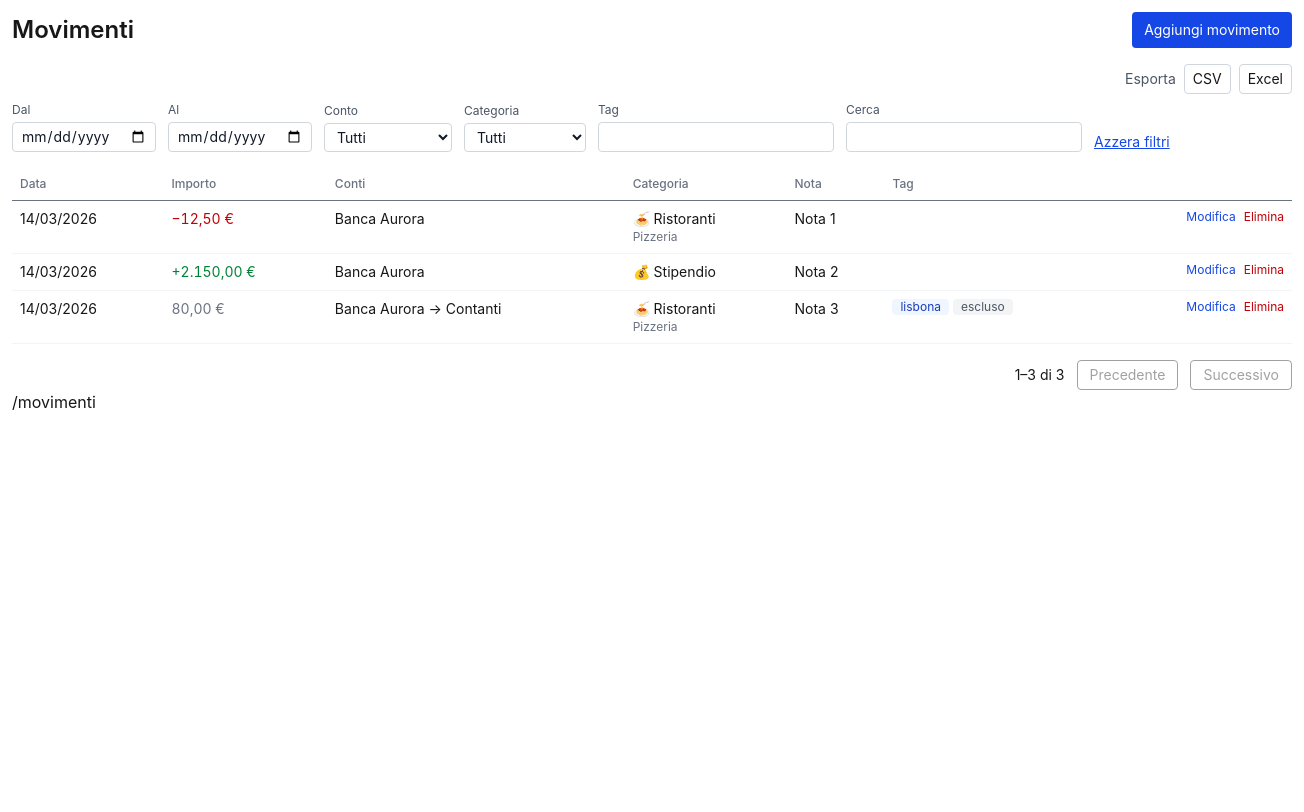
Test case: changing the ledger › edits a row inline with a PATCH
Click the button "Modifica" in the row of "−12,50 €" at coordinates (1211, 217), box [1186,209,1236,225]
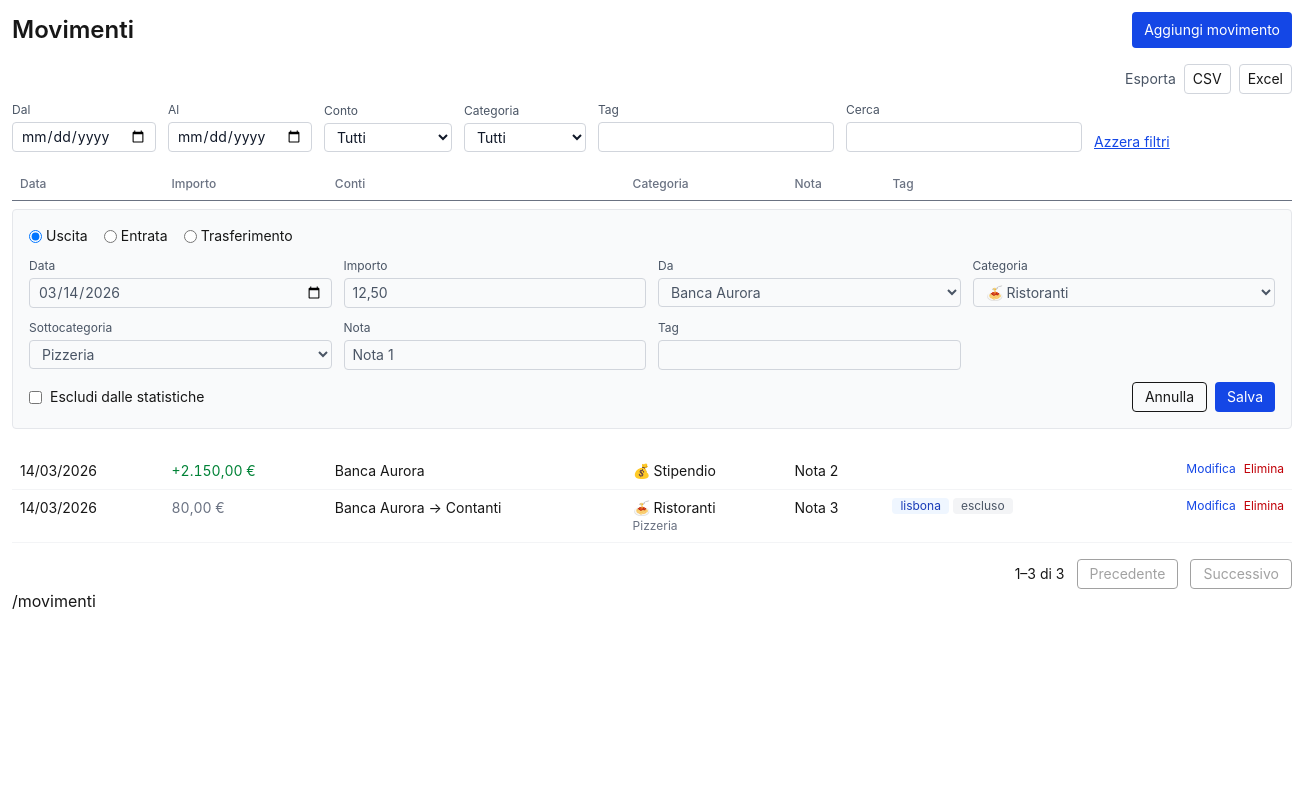
Result: the field labelled "Importo" holds "12,50"
Replace the text in the field labelled "Importo" with "20" at coordinates (495, 293), box [344,278,646,308]
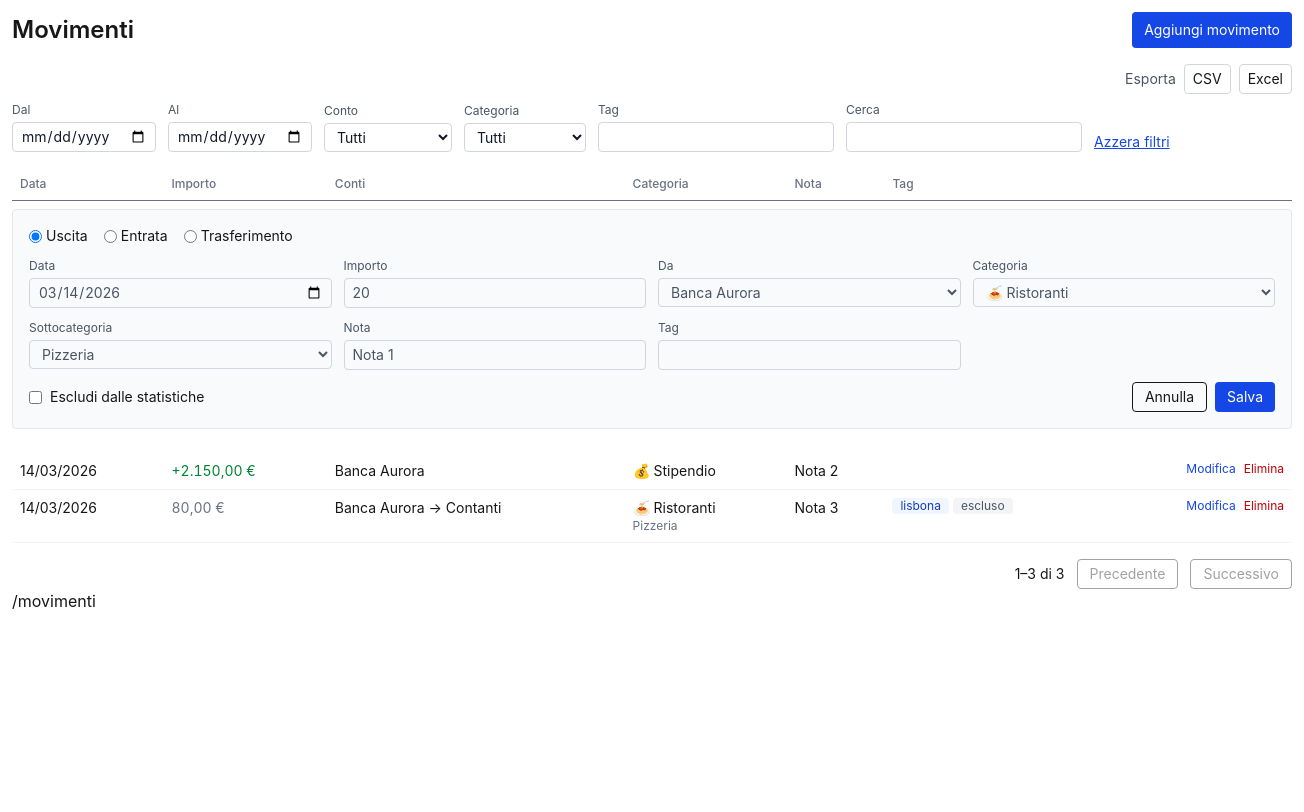
Click the button "Salva" at coordinates (1245, 397), box [1215,382,1275,412]
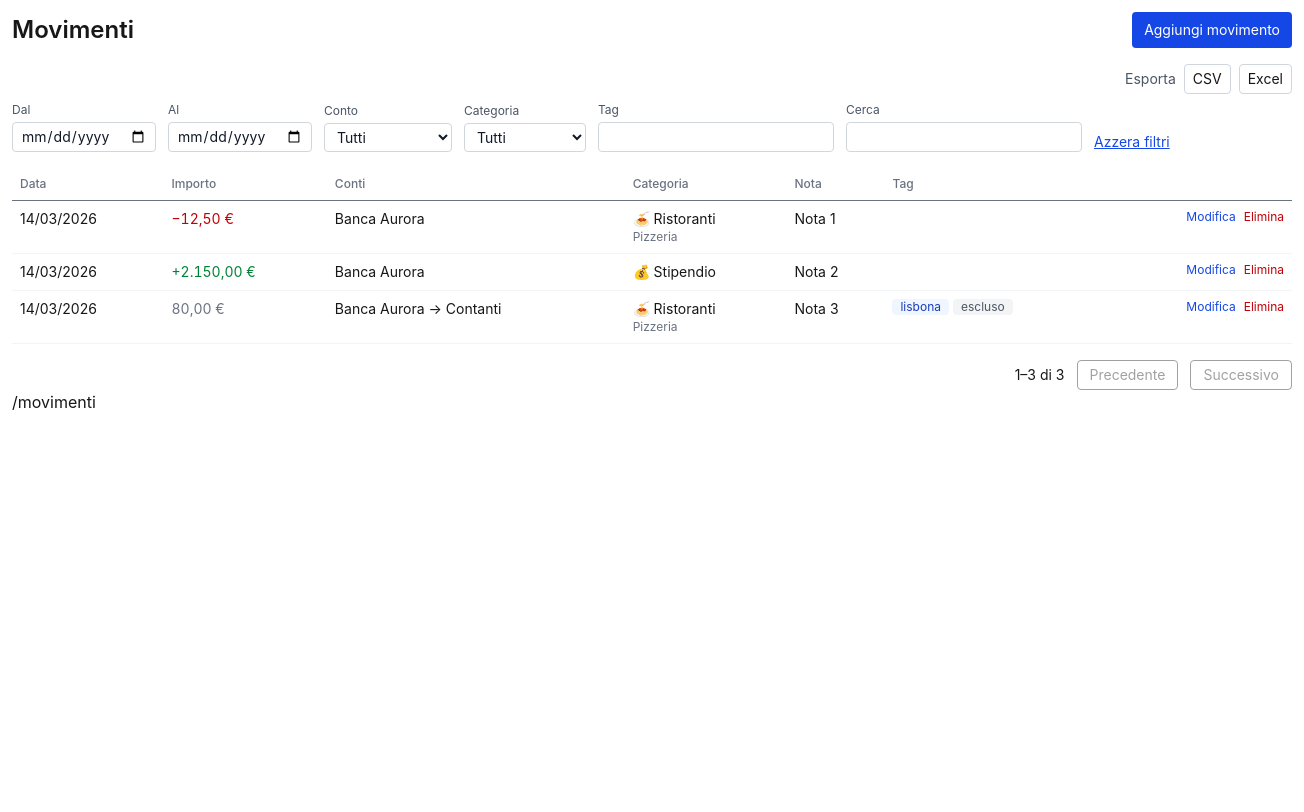
Result: the form is gone
